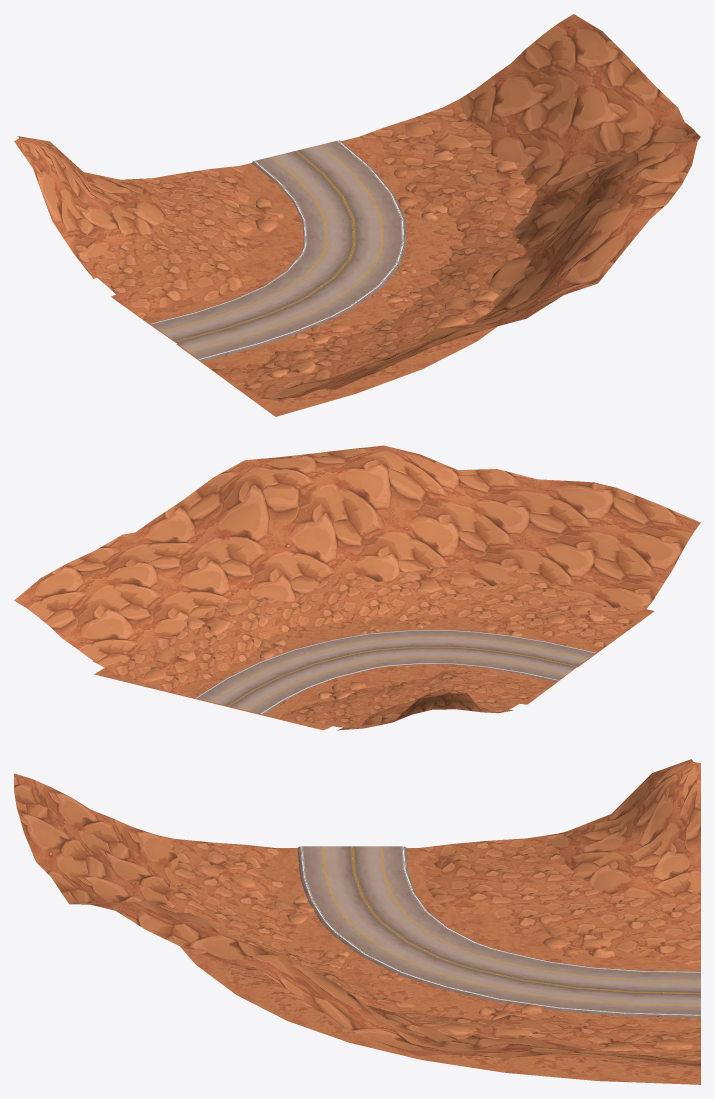
The model's file is Desert_Right.FBX.
3 renders of one model, top to bottom at view 1: azimuth 30°, elevation 25°; view 2: azimuth 150°, elevation 25°; view 3: azimuth 270°, elevation 25°, orthographic. The views are drawn at different scales.
Visible parts, largest first — view 1: Desert_TurnLeft_R, Desert_TurnLeft_L, Desert_TurnLeft_Road; view 2: Desert_TurnLeft_R, Desert_TurnLeft_Road, Desert_TurnLeft_L; view 3: Desert_TurnLeft_R, Desert_TurnLeft_L, Desert_TurnLeft_Road.
Part boxes in pixels (x1=…): Desert_TurnLeft_R: x1=176, y1=14, x2=700, y2=416; Desert_TurnLeft_L: x1=14, y1=136, x2=303, y2=342; Desert_TurnLeft_Road: x1=150, y1=140, x2=406, y2=361; Desert_TurnLeft_R: x1=14, y1=445, x2=700, y2=706; Desert_TurnLeft_Road: x1=195, y1=630, x2=596, y2=715; Desert_TurnLeft_L: x1=227, y1=664, x2=577, y2=730; Desert_TurnLeft_R: x1=14, y1=773, x2=700, y2=1084; Desert_TurnLeft_L: x1=407, y1=759, x2=700, y2=971; Desert_TurnLeft_Road: x1=297, y1=846, x2=700, y2=1018.
Bounding box in the file's own units: 48.98 × 10.11 × 48.98.
Materials: 2 (2 with a texture image).
